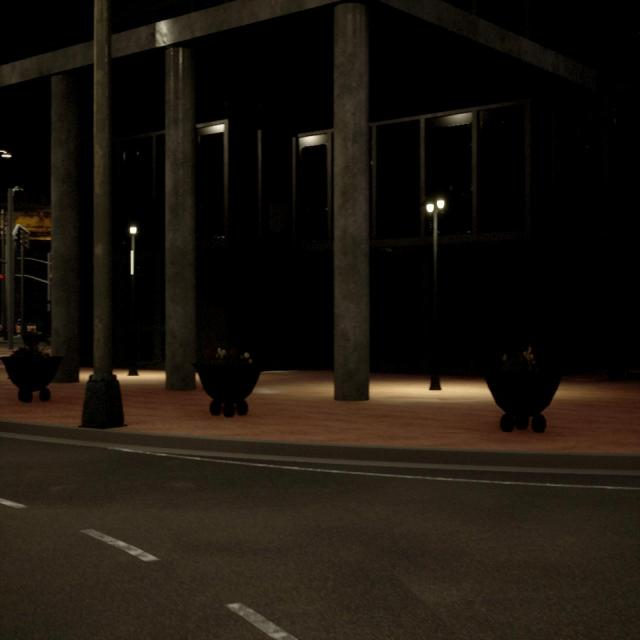traffic_light: (0, 274, 4, 279)
